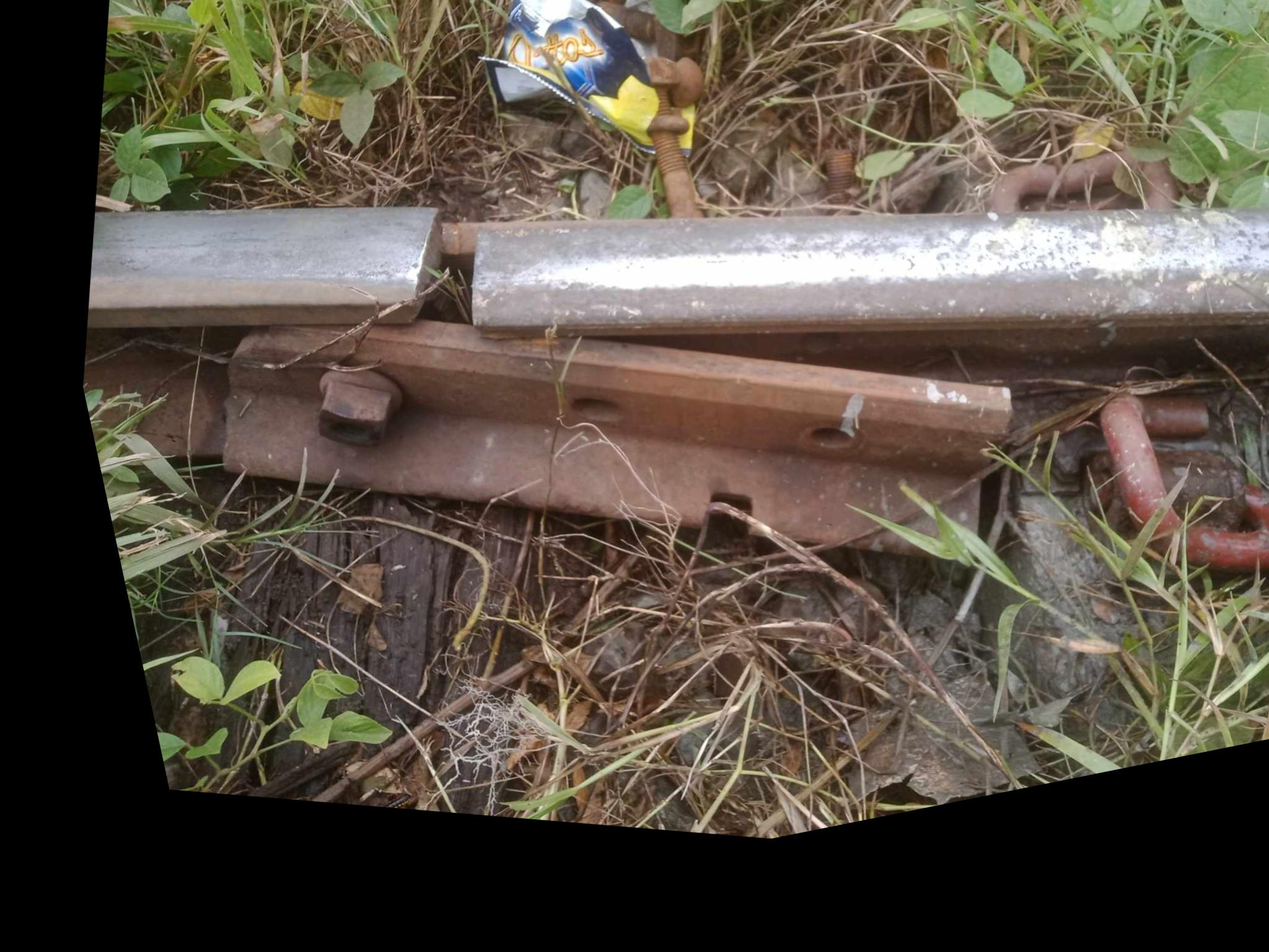person: (274, 130, 602, 458)
